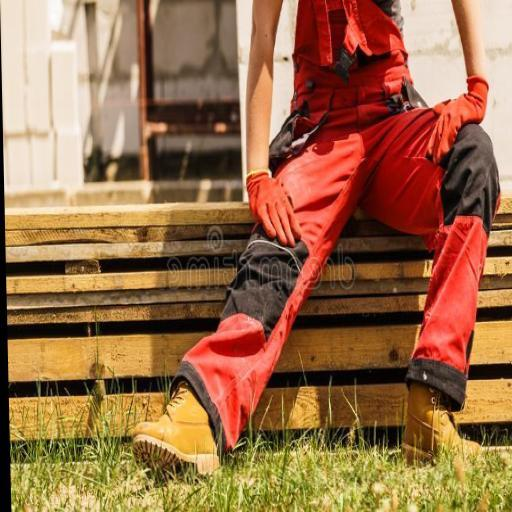safety_boots: (114, 380, 232, 503), (373, 388, 491, 481)
